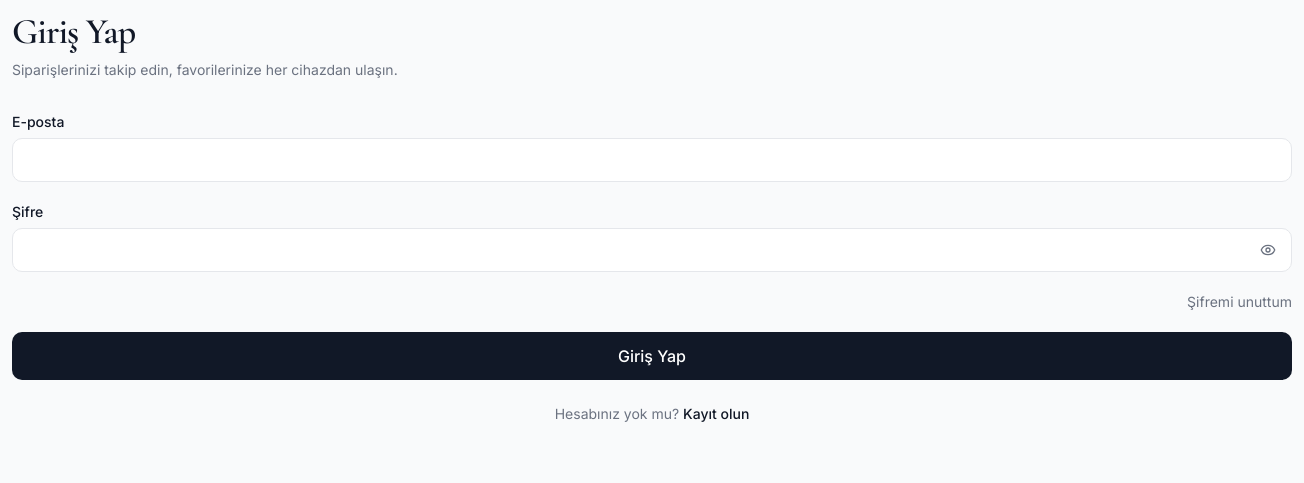
Test: LoginPage › boş gönderimde alan hatalarını gösterir
What coordinates should you click on to do the following:
click the button "Giriş Yap"
I would click on:
 (652, 356)
Its box is [12,332,1292,380].
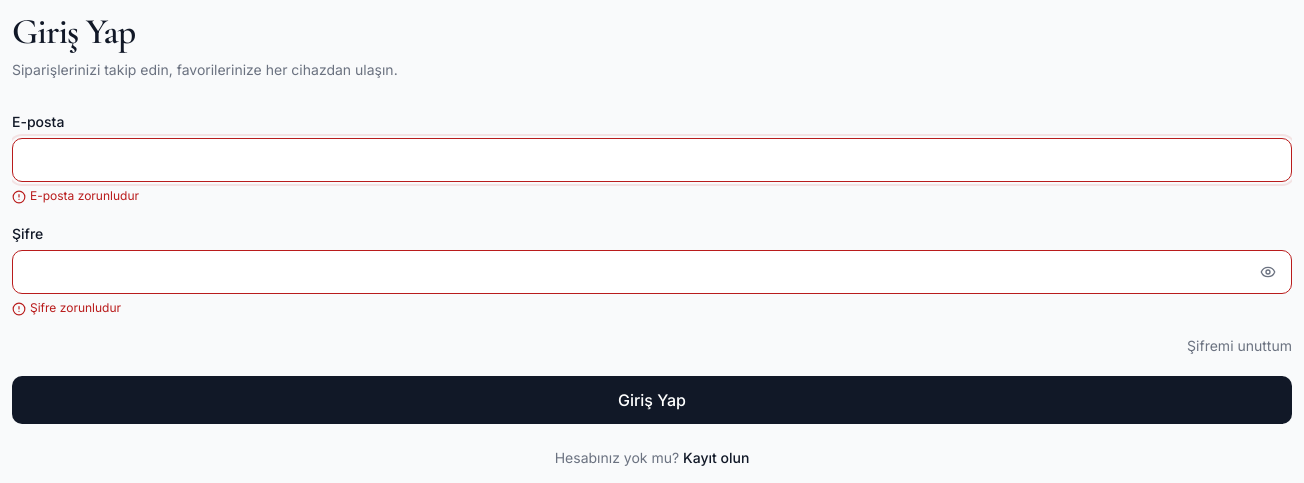
Now the text "E-posta zorunludur" is shown, box [30,188,139,204]
Now the text "Şifre zorunludur" is shown, box [30,300,121,316]
